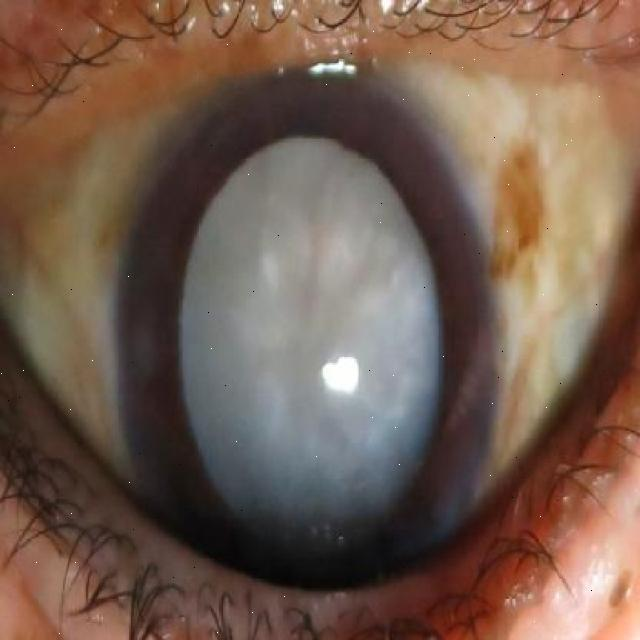Cataract: (116, 70, 498, 626)
